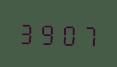nine: (38, 19, 57, 46)
seven: (78, 20, 97, 48)
three: (18, 18, 37, 46)
zero: (58, 20, 77, 47)
